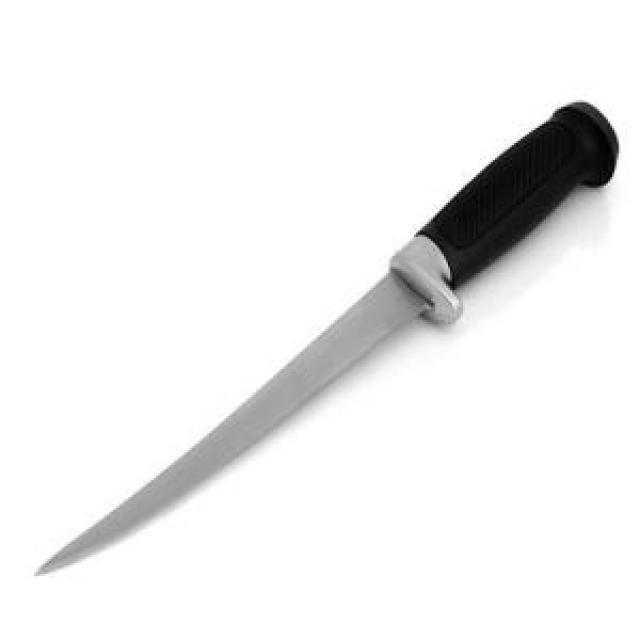knife: (32, 54, 623, 616)
